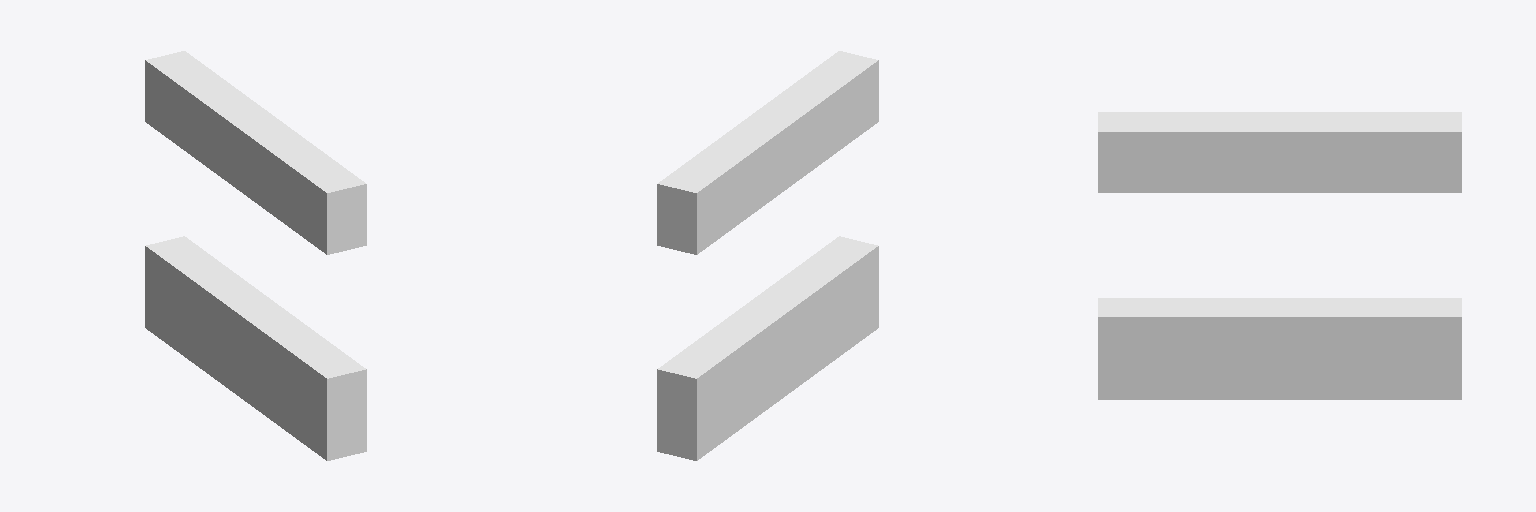
Rendered from fence_middle.obj.
The picture shows the model from 3 angles: view 1: azimuth 30°, elevation 25°; view 2: azimuth 150°, elevation 25°; view 3: azimuth 270°, elevation 25°; orthographic projection.
Visible parts, largest first — view 1: object 1; view 2: object 1; view 3: object 1.
Part boxes in pixels (bbox=[...]): object 1: bbox=[145, 51, 366, 460]; object 1: bbox=[657, 51, 878, 460]; object 1: bbox=[1098, 112, 1461, 399].
Size of the model in its own units: 0.2 by 1.3 by 1.6.